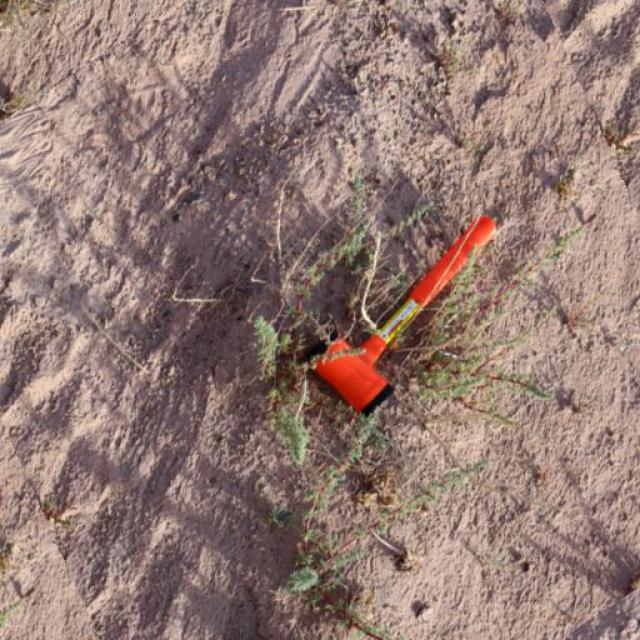mallet: (309, 213, 500, 415)
